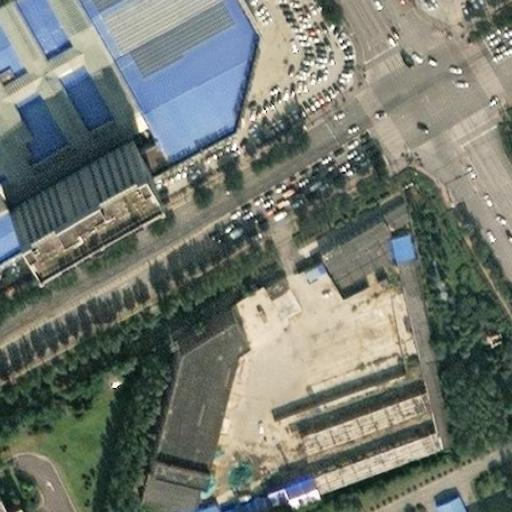building: (132, 294, 236, 496), (377, 221, 447, 437), (292, 380, 432, 479), (301, 346, 400, 414), (306, 192, 398, 255), (250, 438, 312, 499), (335, 247, 381, 290), (210, 481, 267, 512), (423, 479, 464, 512), (151, 492, 215, 512), (261, 277, 293, 310), (298, 255, 329, 283), (115, 488, 129, 512)
